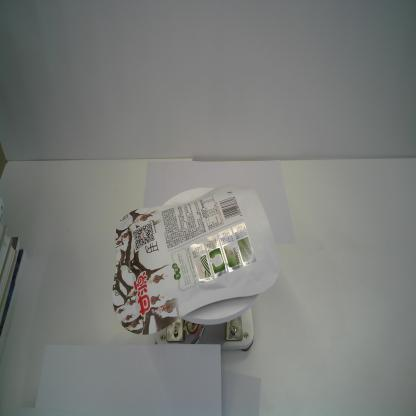Dried Fruit: (111, 181, 280, 337)
